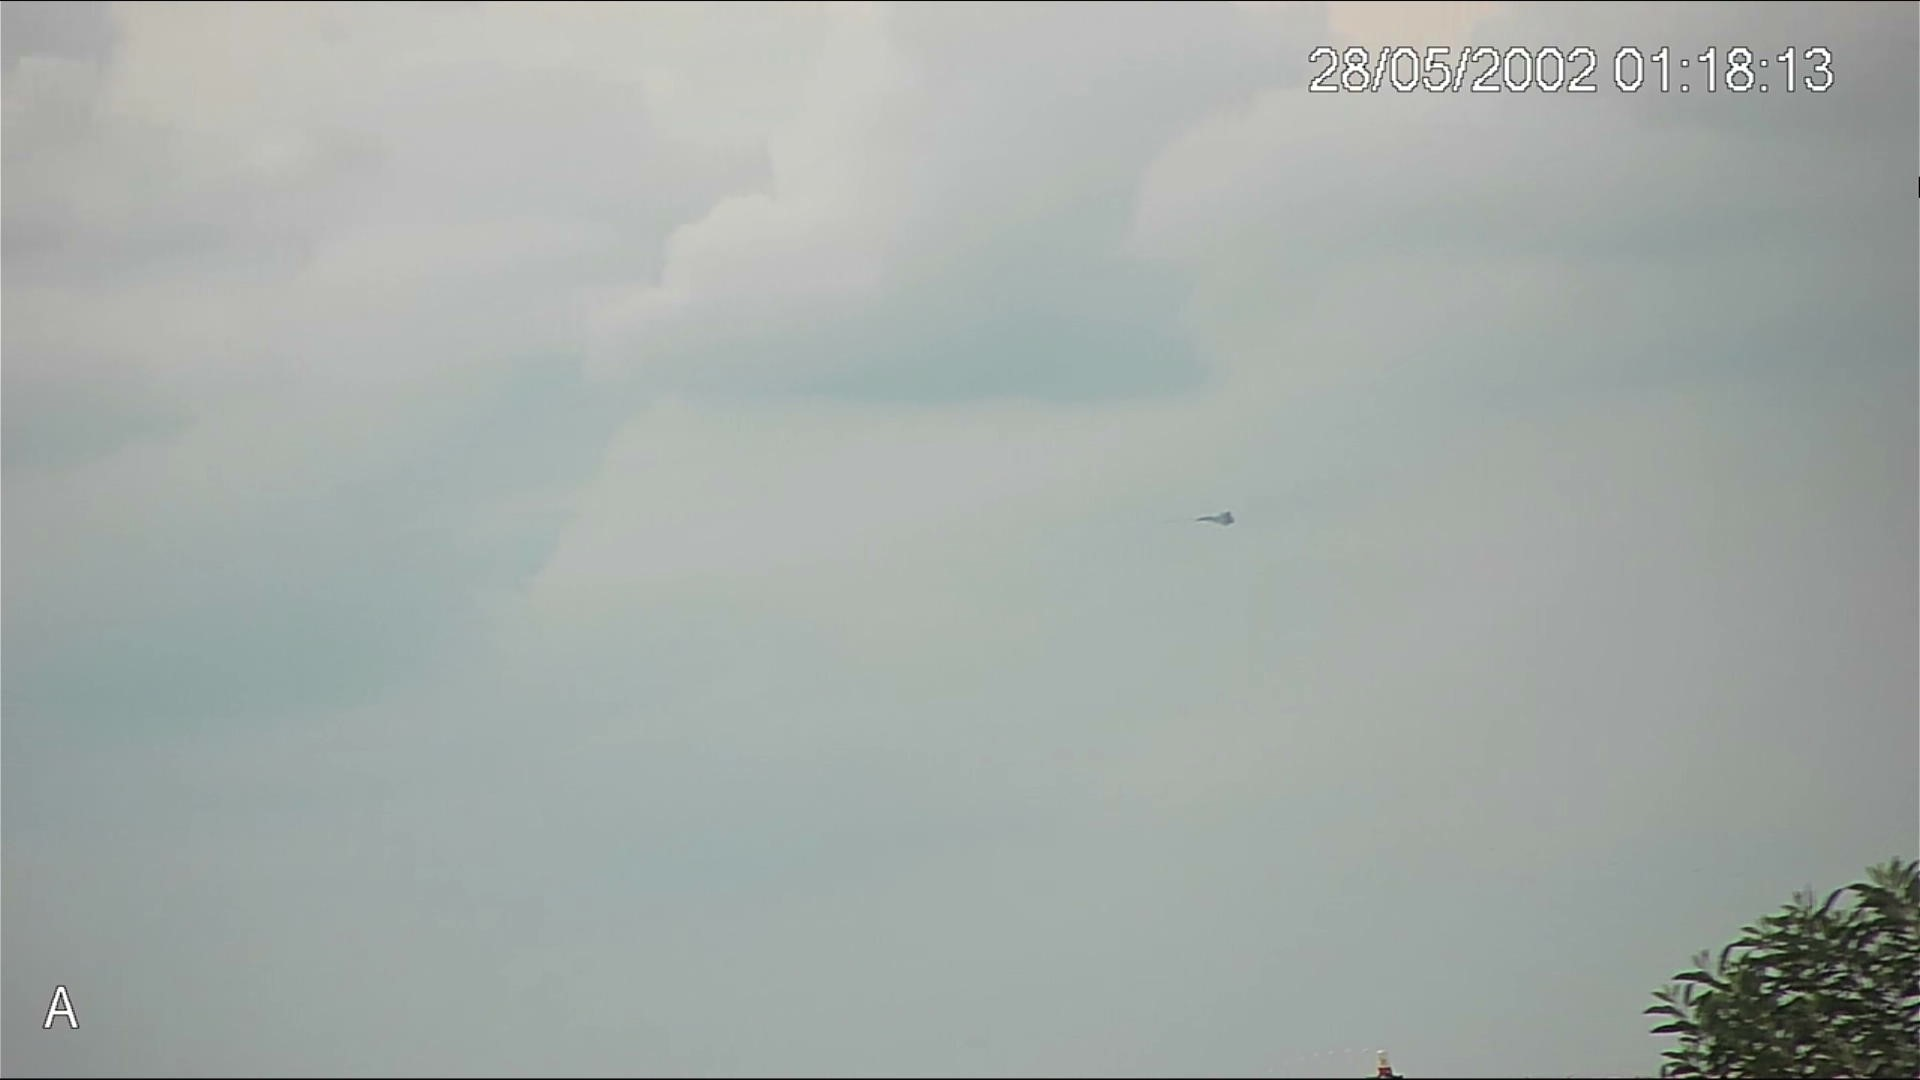SU_30: (1193, 510, 1237, 527)
